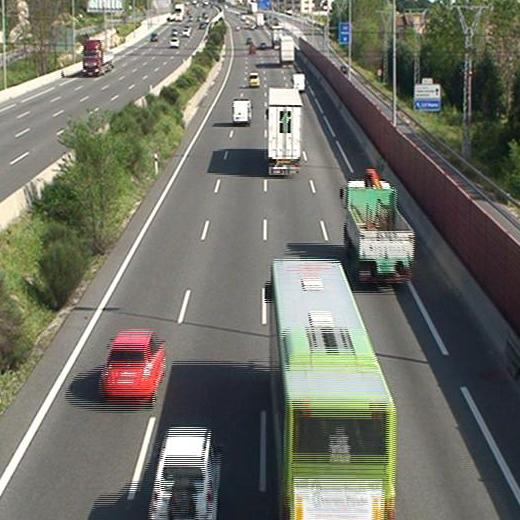bus: (269, 261, 395, 520)
car: (150, 430, 218, 520), (99, 333, 166, 400), (248, 74, 259, 87)
small-truck: (345, 179, 412, 285)
truck: (266, 87, 301, 174), (280, 38, 294, 66)
van: (232, 100, 251, 124), (293, 74, 305, 92)
